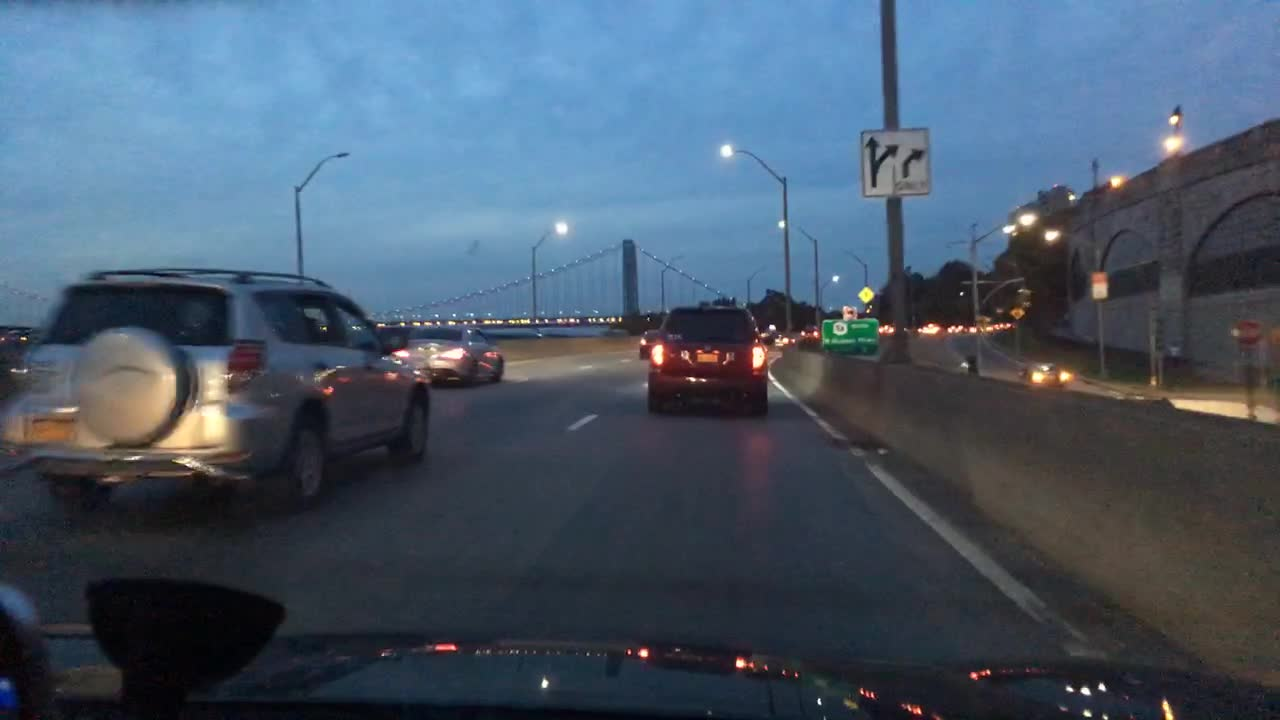car: (0, 267, 430, 517), (646, 303, 766, 413), (397, 321, 503, 387), (1018, 360, 1077, 385), (632, 327, 663, 358), (797, 327, 819, 345), (769, 334, 790, 349), (920, 325, 947, 333), (968, 325, 991, 334), (945, 325, 969, 333), (877, 325, 898, 334), (992, 322, 1011, 331)
traffic sign: (862, 131, 930, 197), (825, 319, 880, 353), (1229, 318, 1264, 345), (858, 283, 876, 307), (1094, 269, 1107, 300), (838, 306, 858, 321), (1009, 303, 1027, 318)
